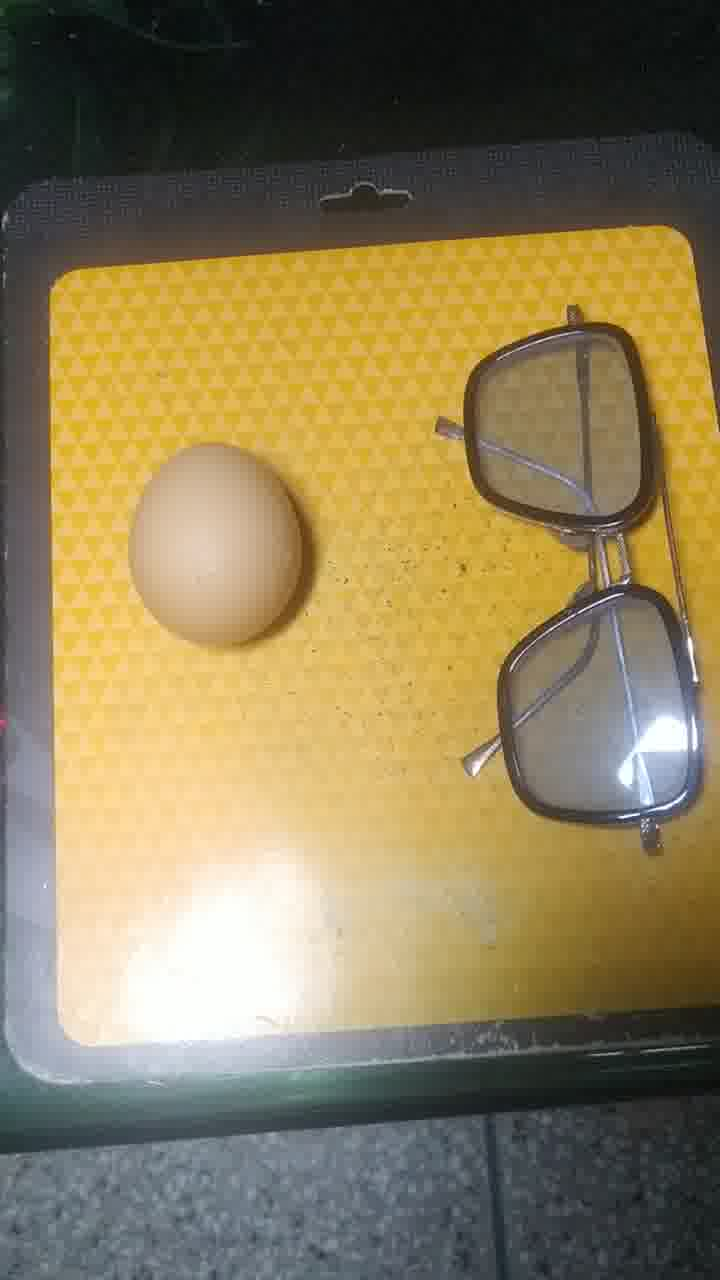egg: (128, 438, 323, 658)
sunglass: (417, 296, 720, 858)
